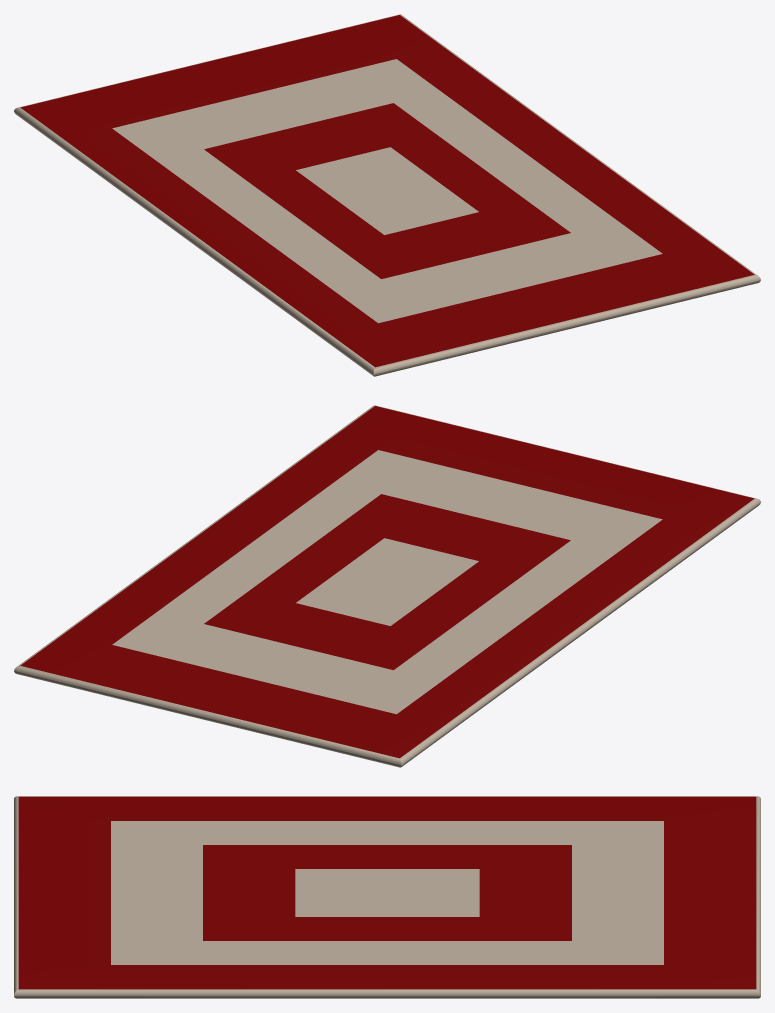
The model's file is Tapis_9.fbx.
3 views of the same model, one above another, from view 1: azimuth 30°, elevation 25°; view 2: azimuth 150°, elevation 25°; view 3: azimuth 270°, elevation 25° (orthographic). The views are drawn at different scales.
Visible parts, largest first — view 1: pCube2874; view 2: pCube2874; view 3: pCube2874.
Part boxes in pixels (bbox=[...]): pCube2874: bbox=[14, 14, 760, 376]; pCube2874: bbox=[14, 405, 760, 767]; pCube2874: bbox=[14, 796, 760, 998].
Size of the model in its own units: 83.89 by 1.8 by 135.
